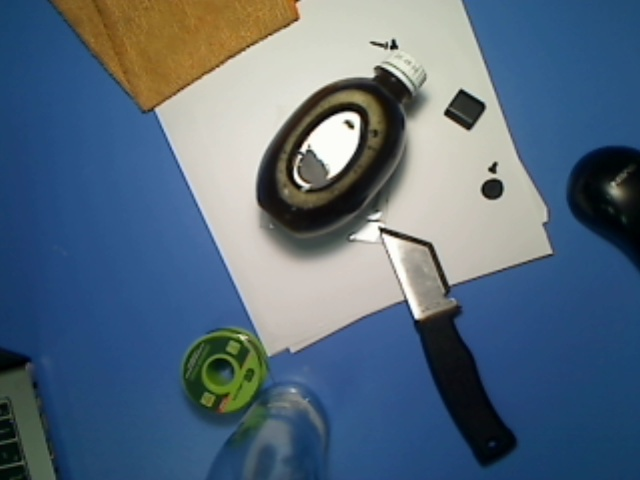plast_bottle: (250, 45, 433, 241)
